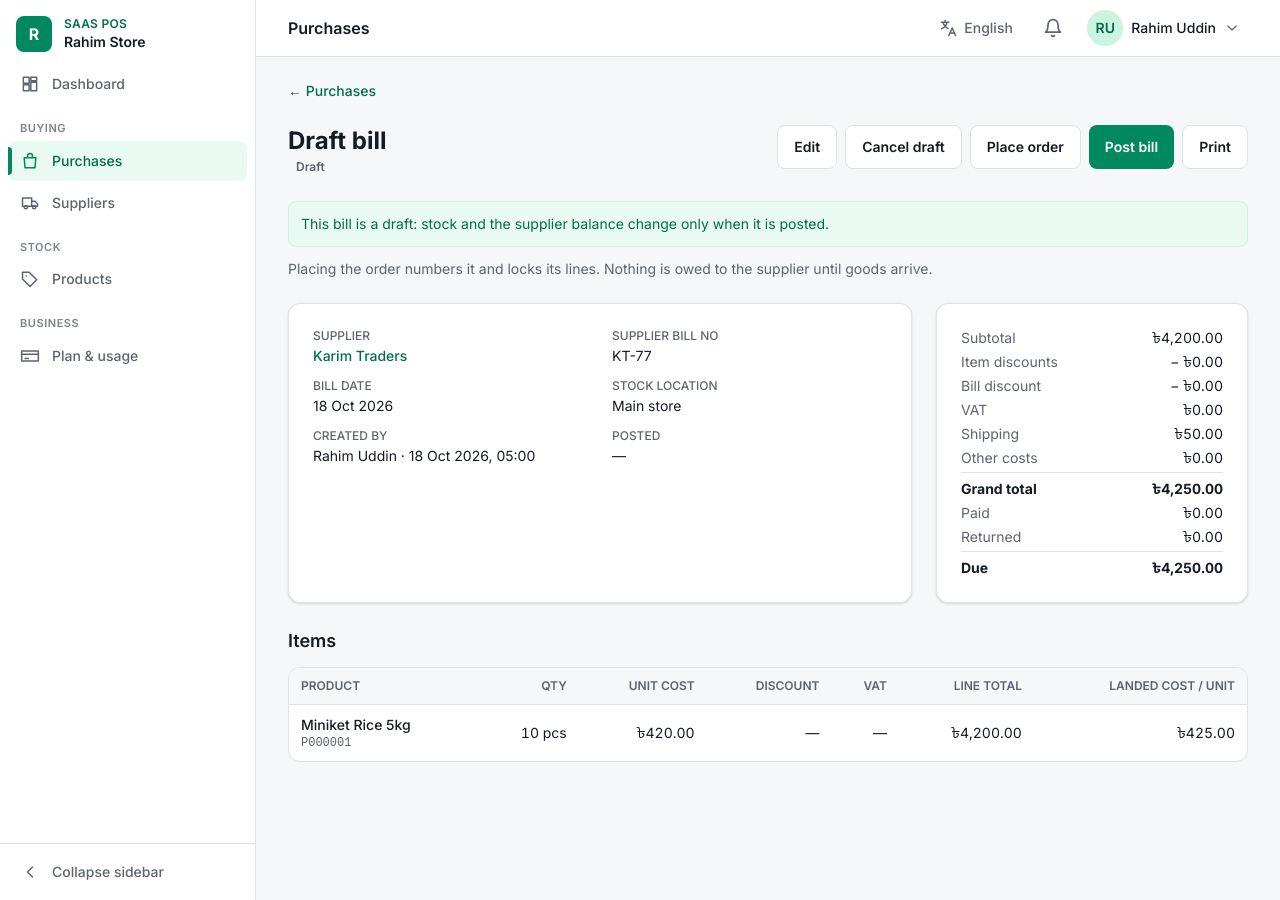
Test: purchases › places, approves and receives part of a purchase order
Click the button "Place order" at (1025, 147), box x1=970 y1=125 x2=1081 y2=169
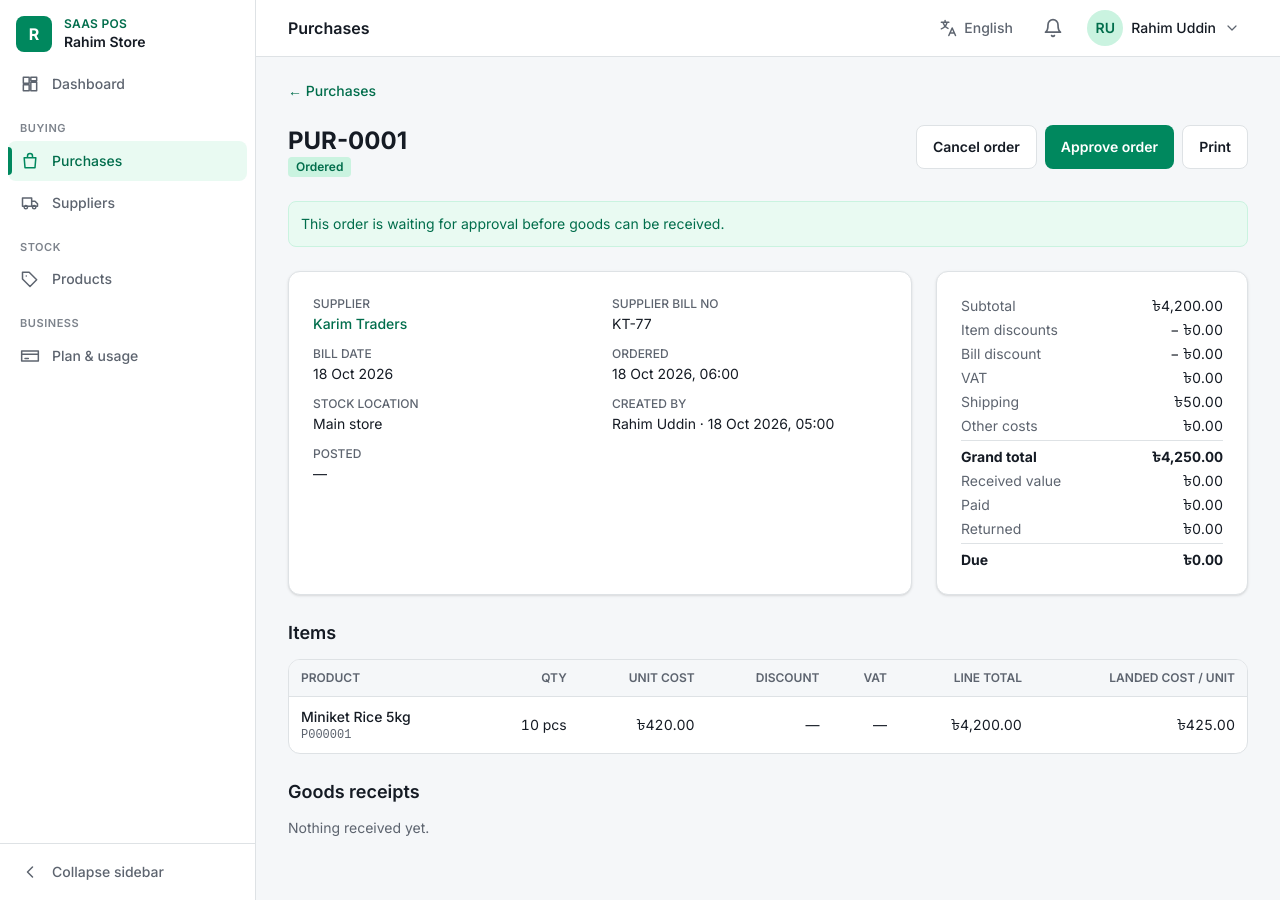
Click the button "Approve order" at (1109, 147), box x1=1045 y1=125 x2=1174 y2=169
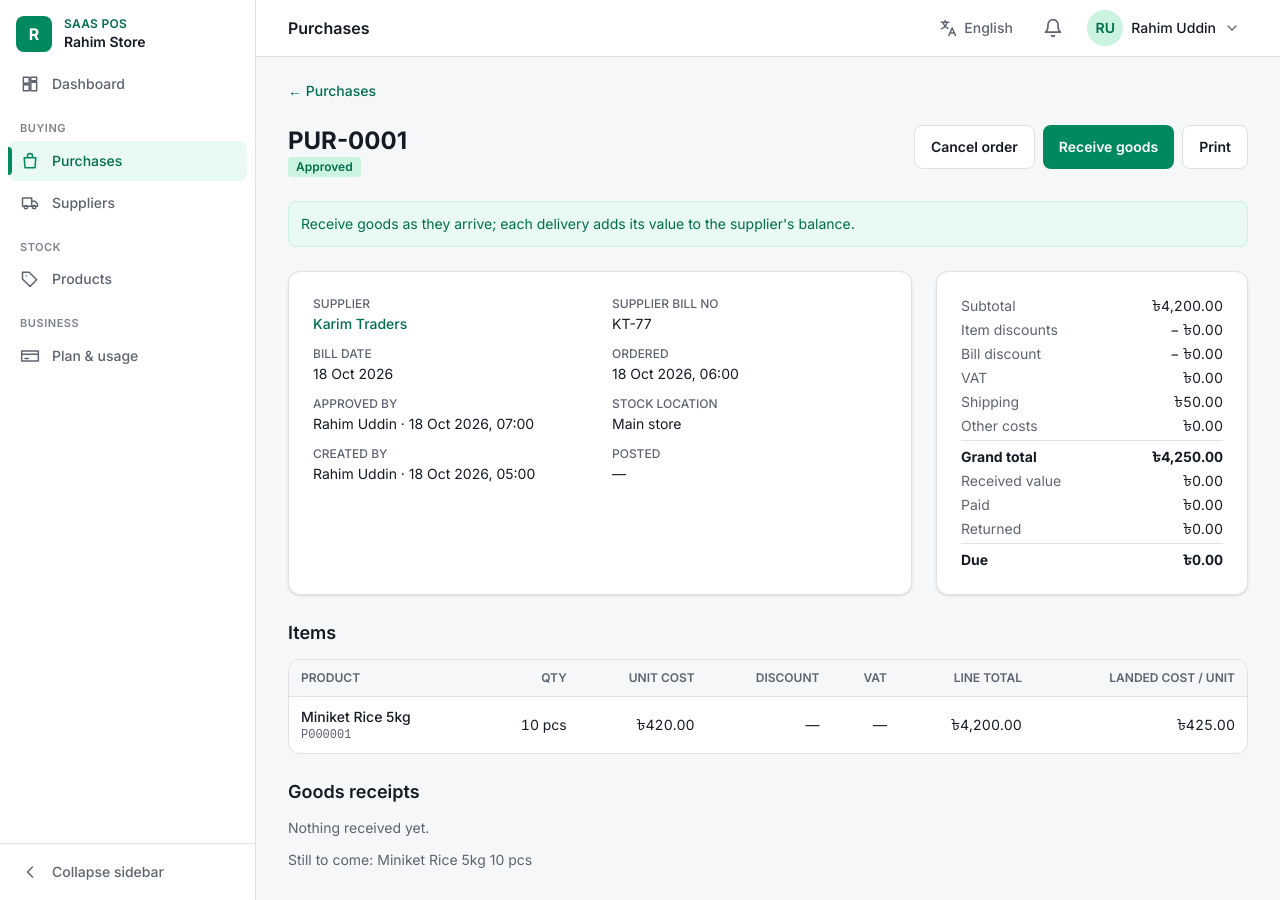
Click the button "Receive goods" at (1108, 147), box x1=1043 y1=125 x2=1174 y2=169
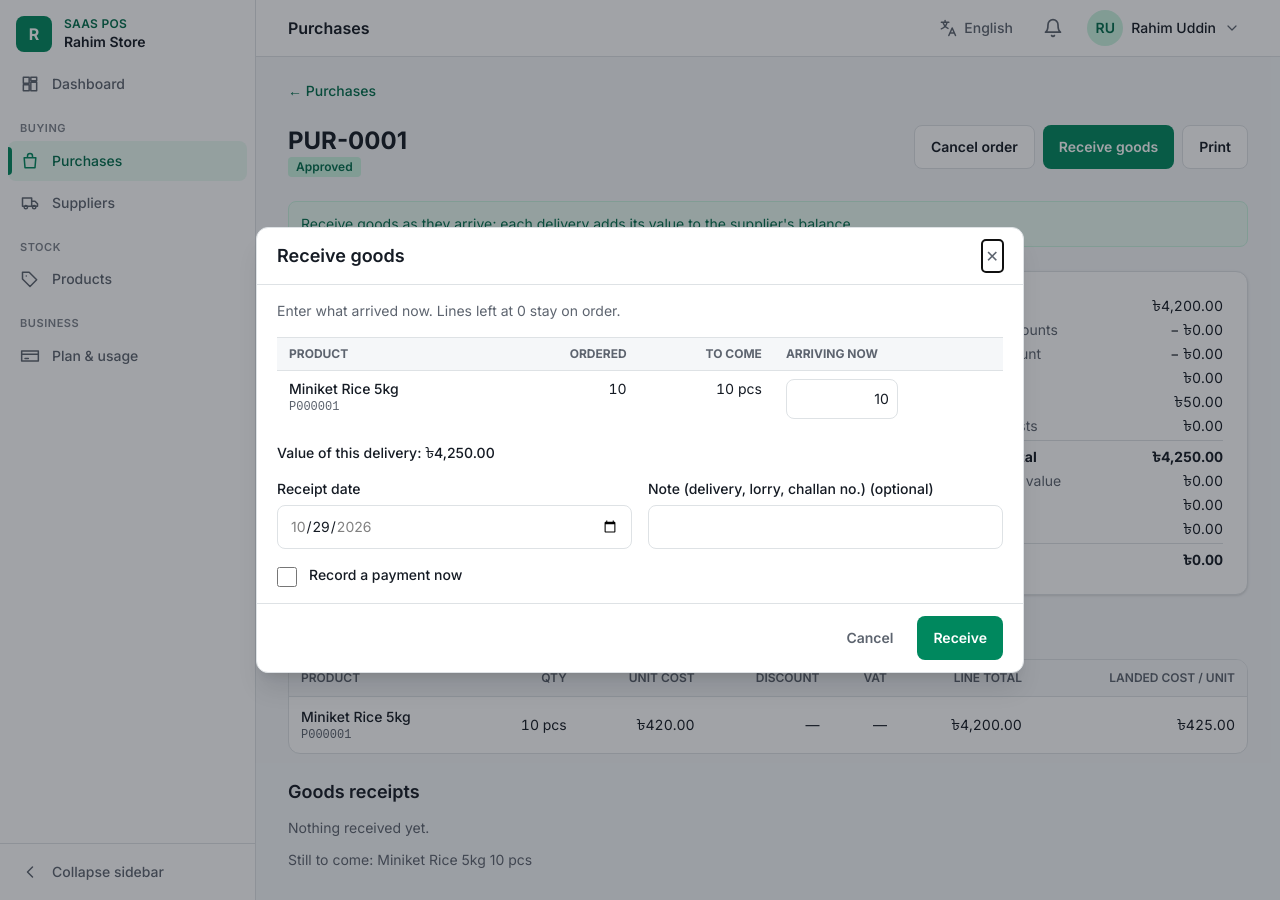
Result: the field named "Arriving now for Miniket Rice 5kg" holds "10"
Replace the text in the field named "Arriving now for Miniket Rice 5kg" with "4" at (842, 399), box x1=786 y1=379 x2=898 y2=419
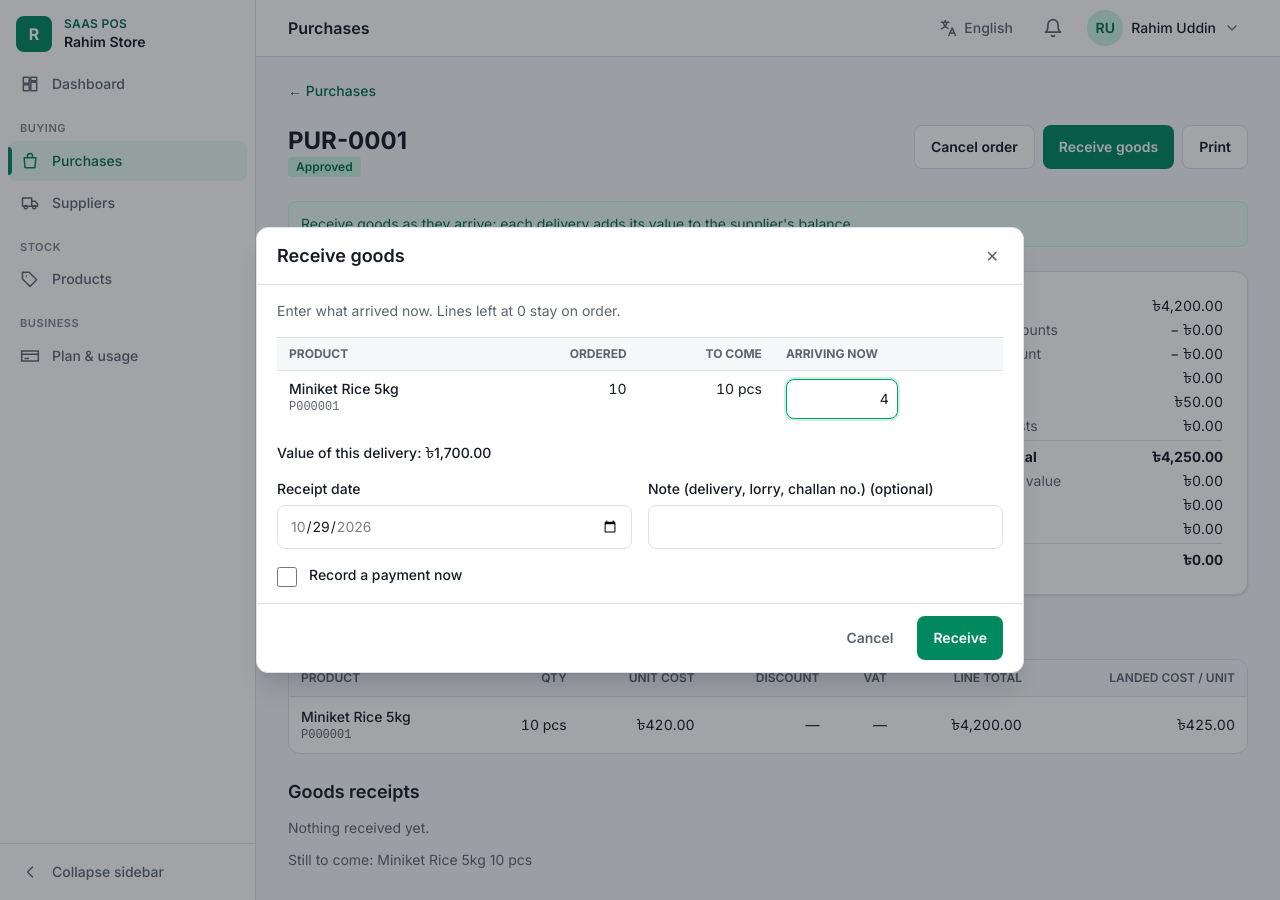
Result: the text "Value of this delivery: ৳1,700.00" is shown at x1=277 y1=444 x2=491 y2=461
Type "First lorry" into the field labelled "Note (delivery, lorry, challan no.) (optional)" at (826, 527), box x1=648 y1=505 x2=1003 y2=549
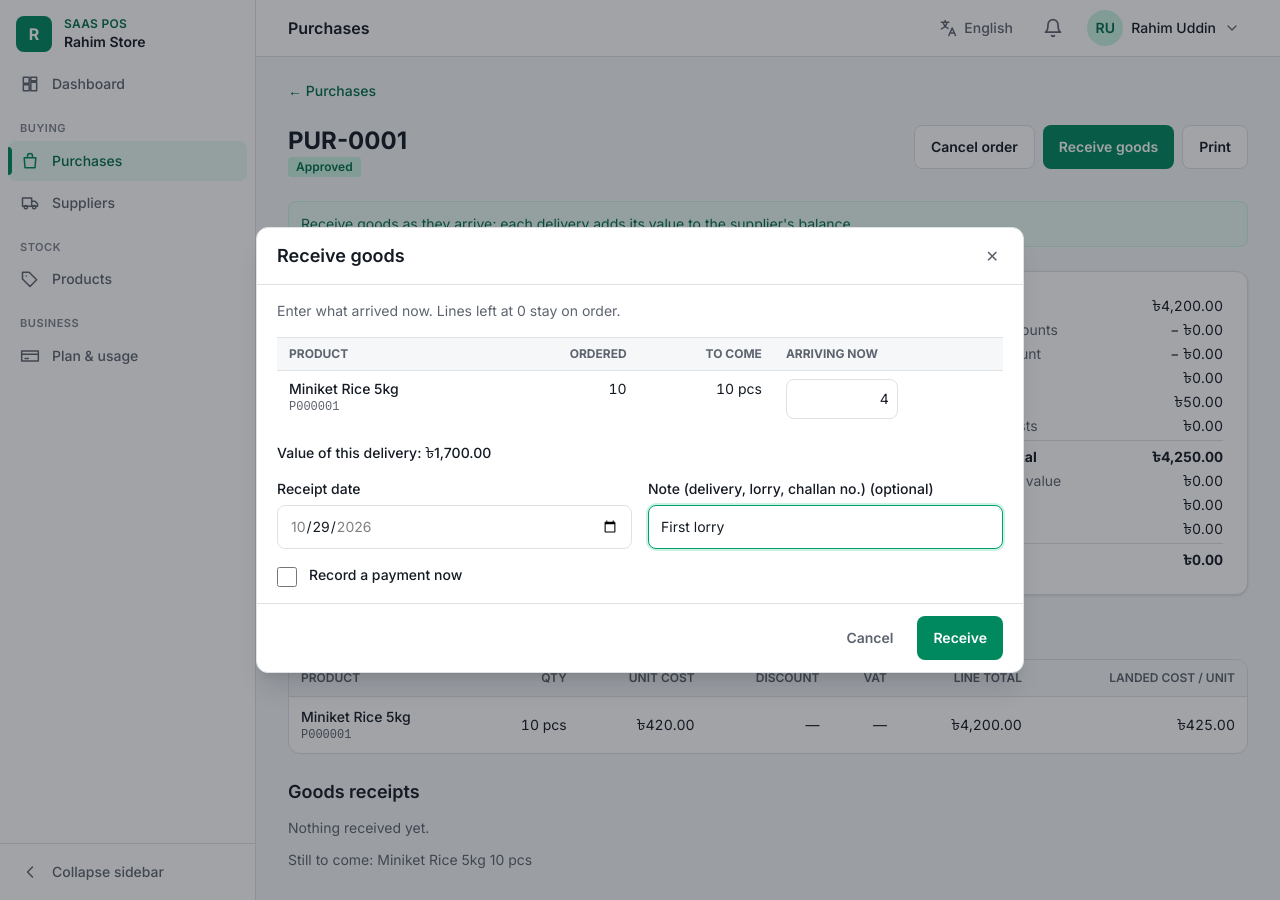
Click the button "Receive" at (960, 638), box x1=917 y1=616 x2=1003 y2=660
(page scrolled)
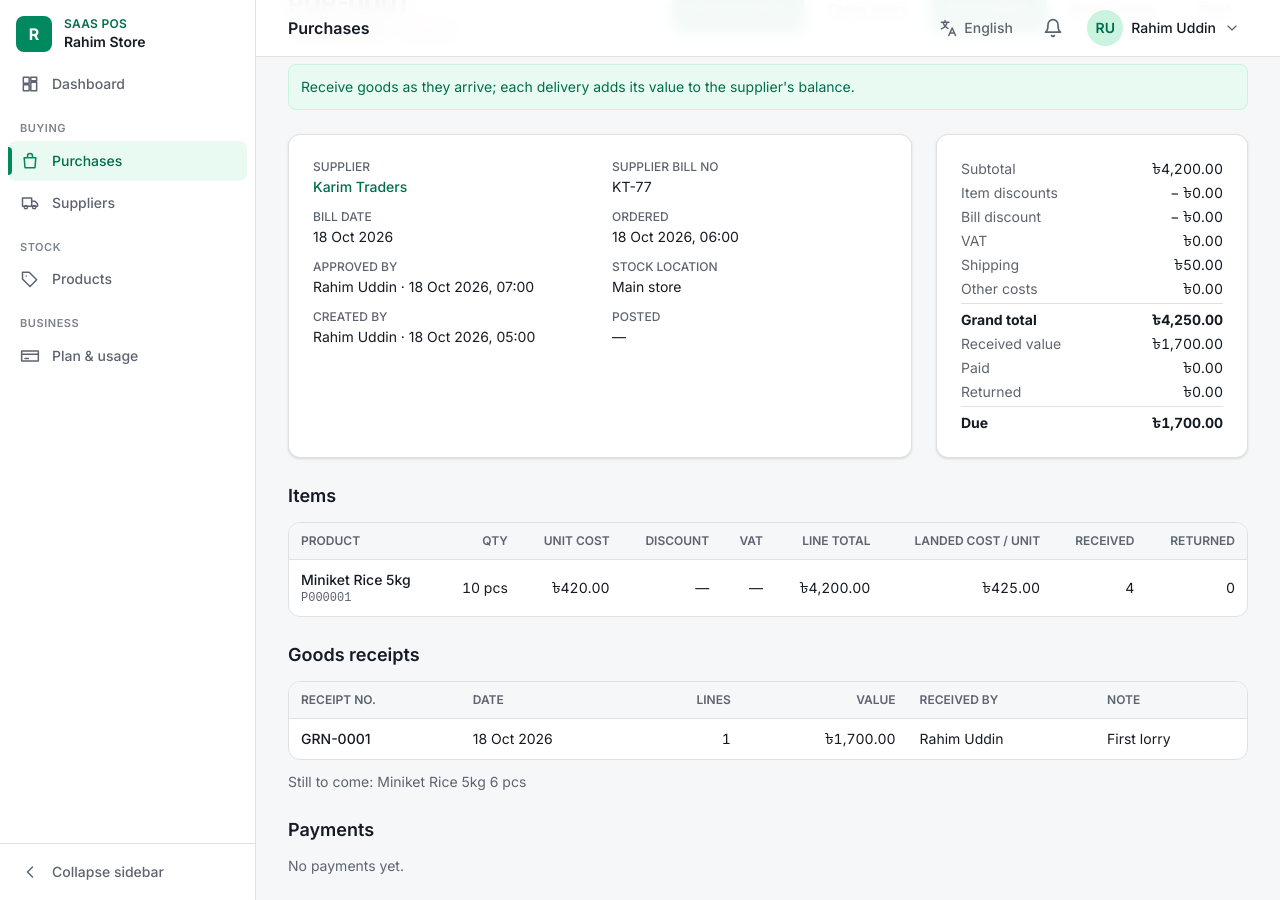
Result: the text "GRN-0001" is shown at x1=301 y1=730 x2=370 y2=747
Result: the text "Still to come: Miniket Rice 5kg 6 pcs" is shown at x1=288 y1=773 x2=526 y2=790
